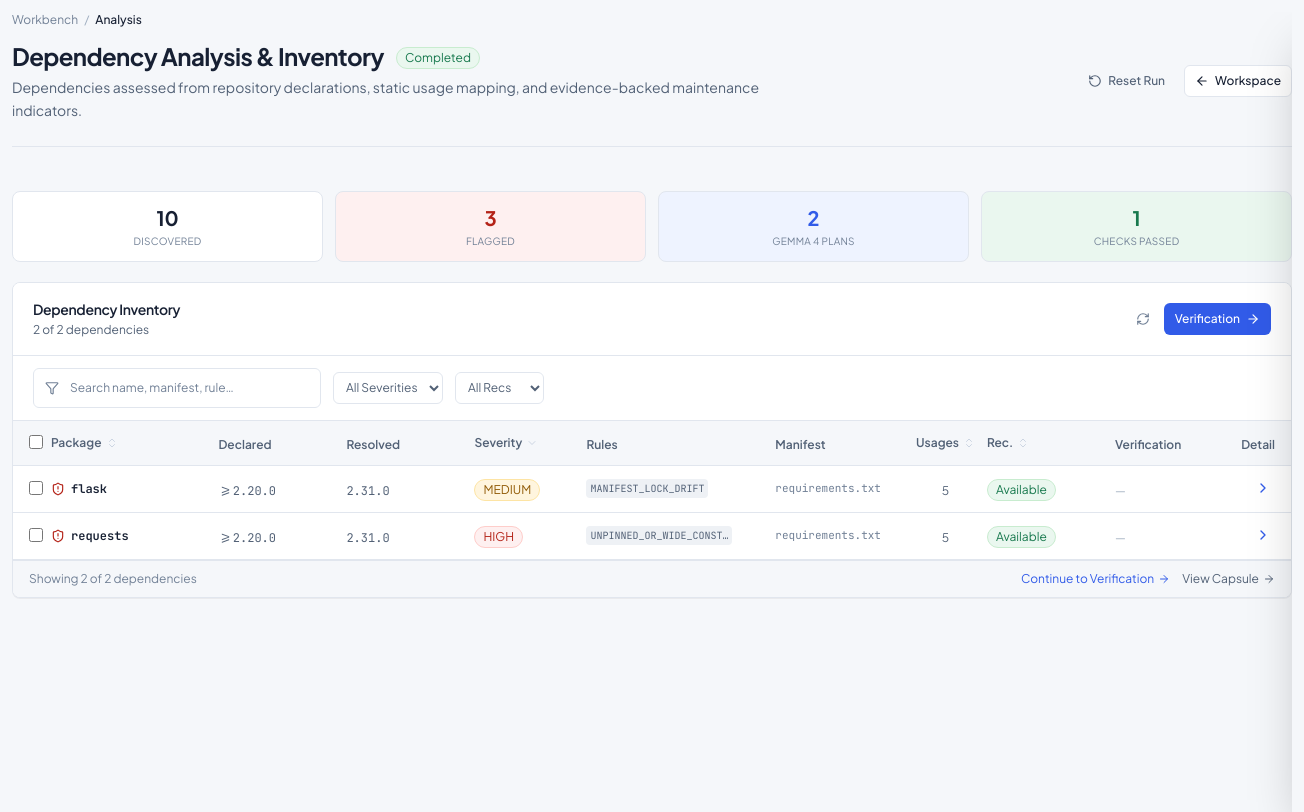
Test case: AnalysisPage — inventory loaded › shows no-match state when filter eliminates all rows
Check: the text "requests" is shown, box [71,528,129,544]
Step 1. Type "nonexistent-xyz" into the field with placeholder "Search name, manifest, rule…" → (177, 388), box [33,368,321,408]
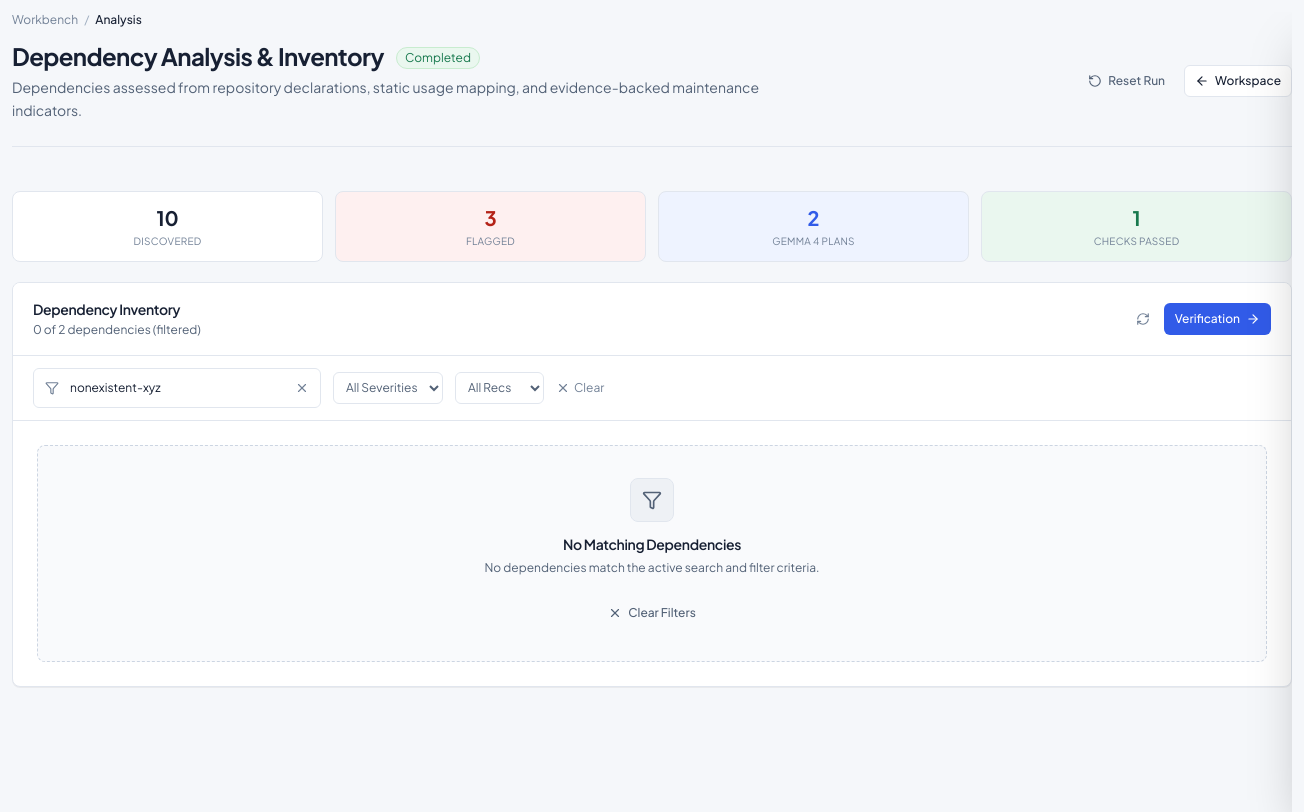
Check: the heading "No Matching Dependencies" is shown, box [563,534,741,554]
